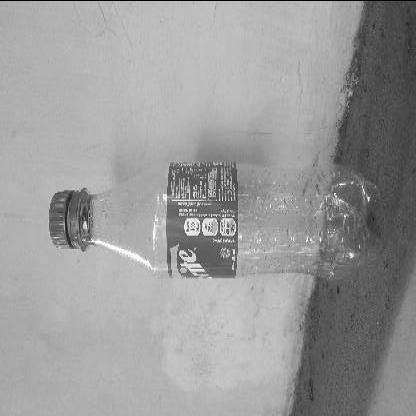plastic_bottles: (47, 157, 386, 284)
